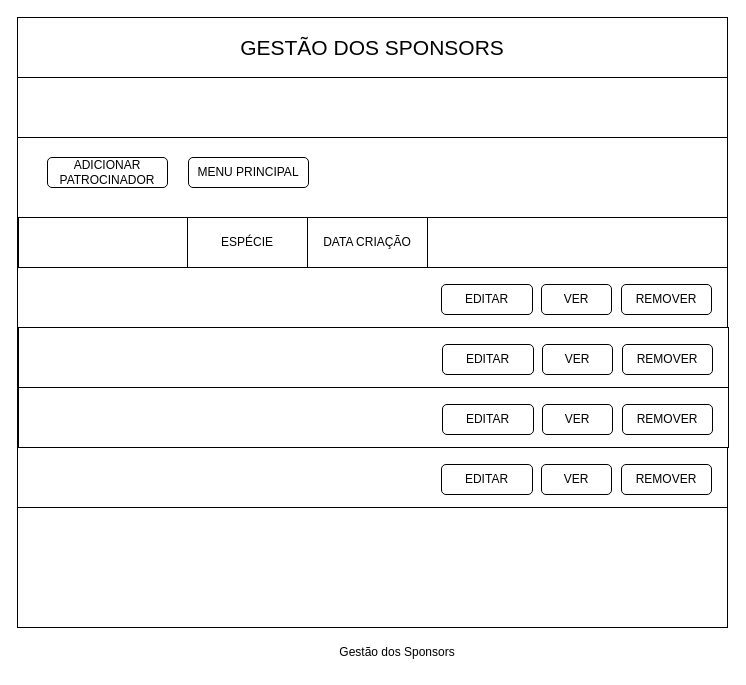
The diagram is 746 pixels wide and 685 high, and some of its shapes have lost their labels. The shapes that lost their labels are listed below. From the top down, each one's centre as x and y in pixels, then its label:
At point (103, 242): "NOME".
At point (577, 242): "AÇÕES".
